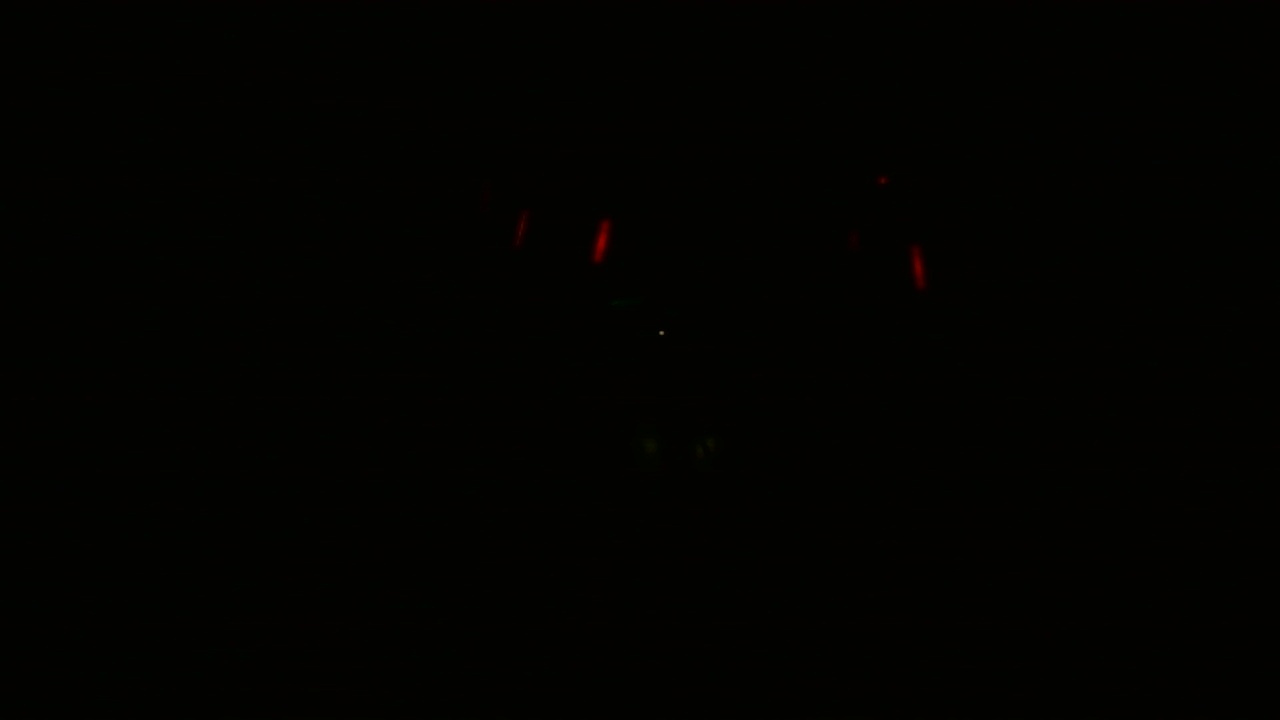pair1: (512, 214, 611, 268)
